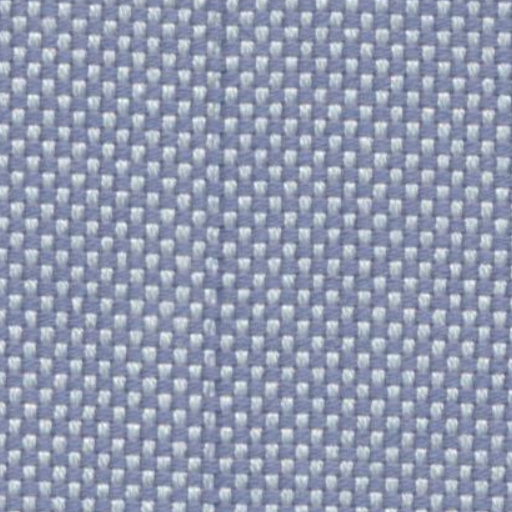TuoSha: (185, 10, 264, 502)
